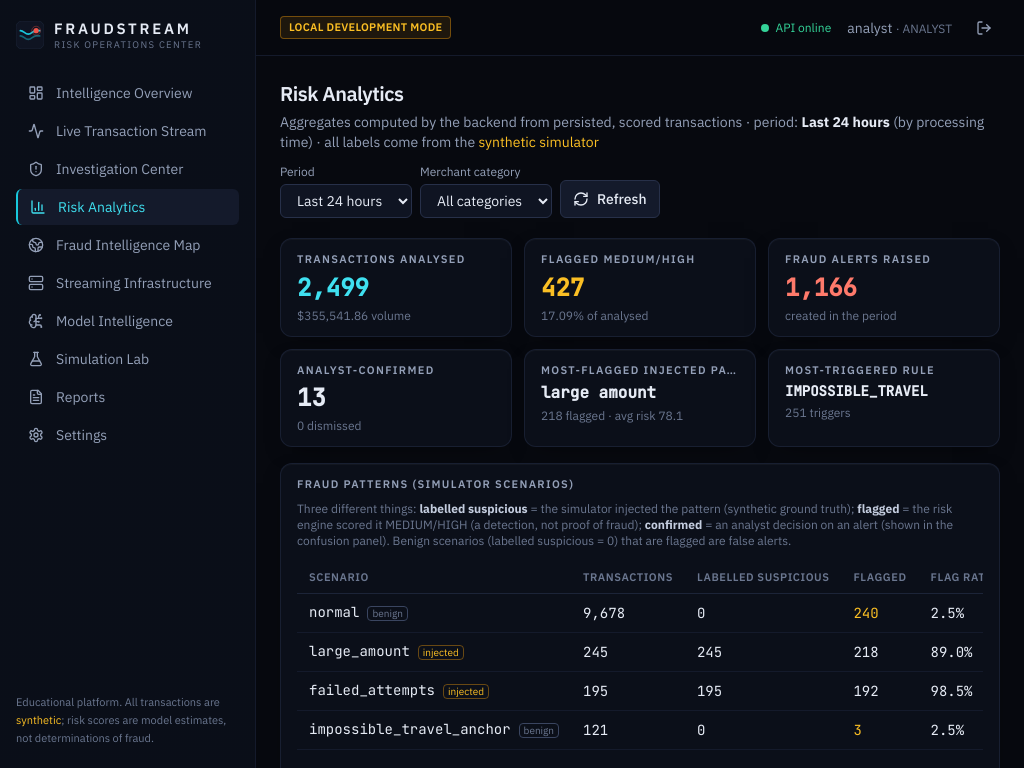
it: Risk Analytics page › a slow response for an old period never replaces the newer period's results
Expected: the element with test id "sum-analysed" is shown, [280,238,512,336]
Select "Last hour" in the dropdown with test id "period-filter": (346, 201) [280,184,412,218]
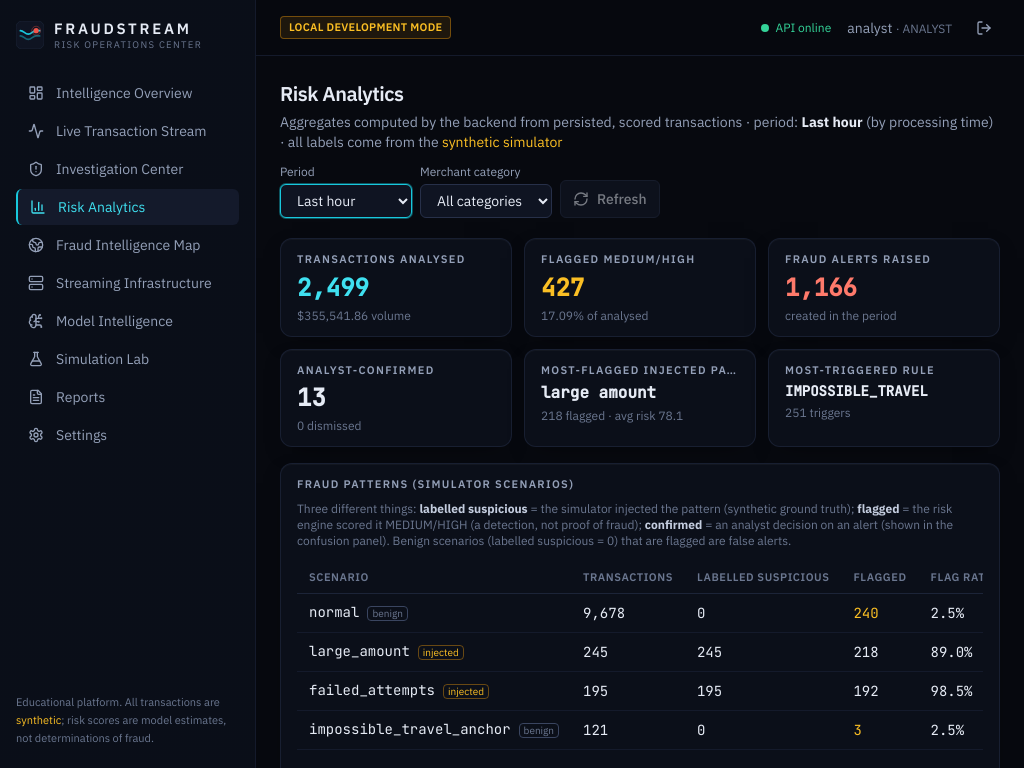
Select "Last 6 hours" in the dropdown with test id "period-filter": (346, 201) [280,184,412,218]
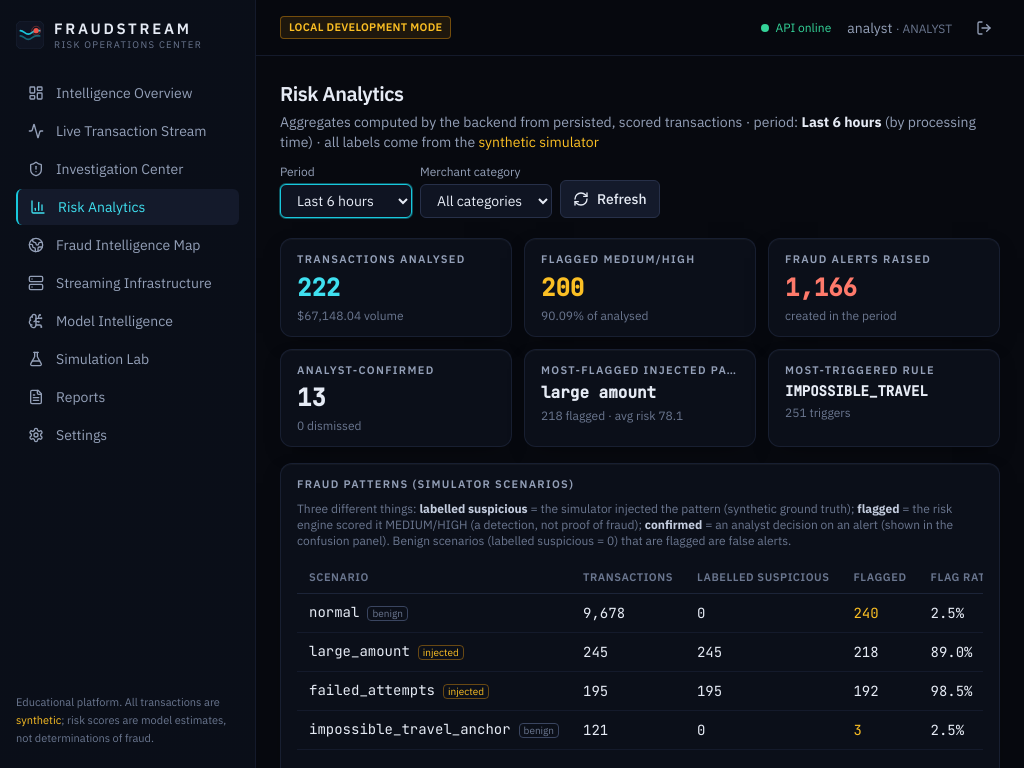
Expected: the element with test id "sum-analysed" shows "222", [297,272,340,302]
